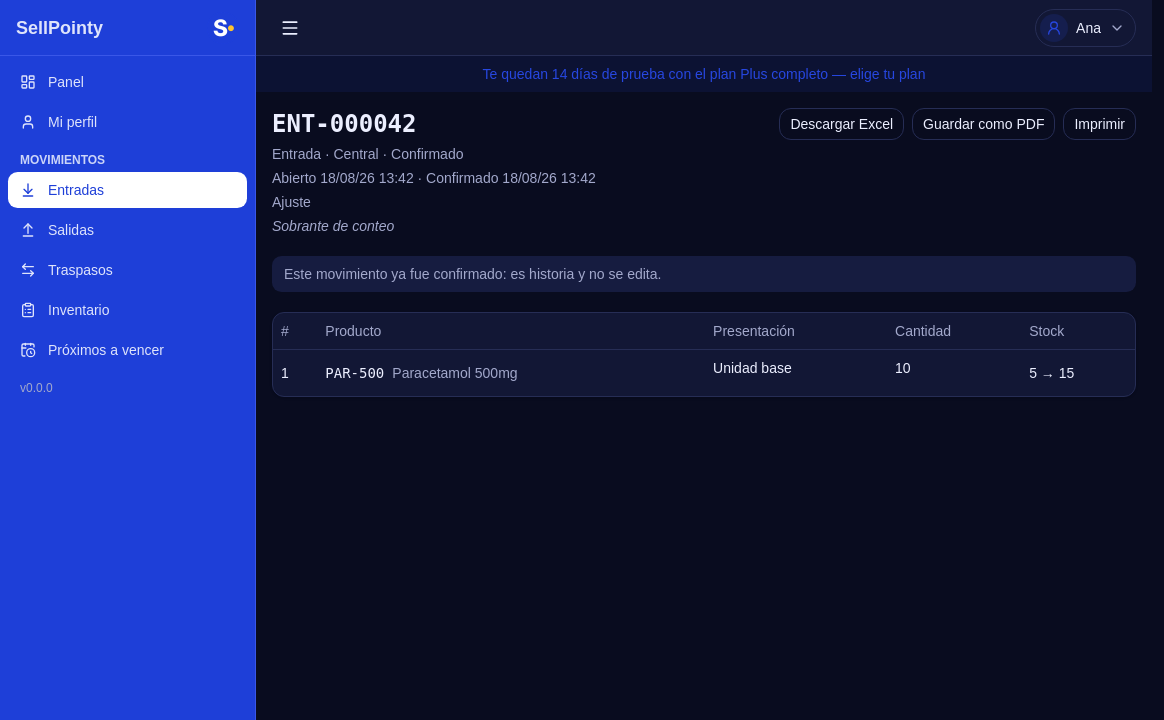
it: Pantalla del documento (F3-DOC-09) › el papel › si guardar el PDF falla, lo dice
Expected: the text "PAR-500" is shown, [325,363,384,383]
Click the button "Guardar como PDF" at (984, 124), box [912,108,1056,140]
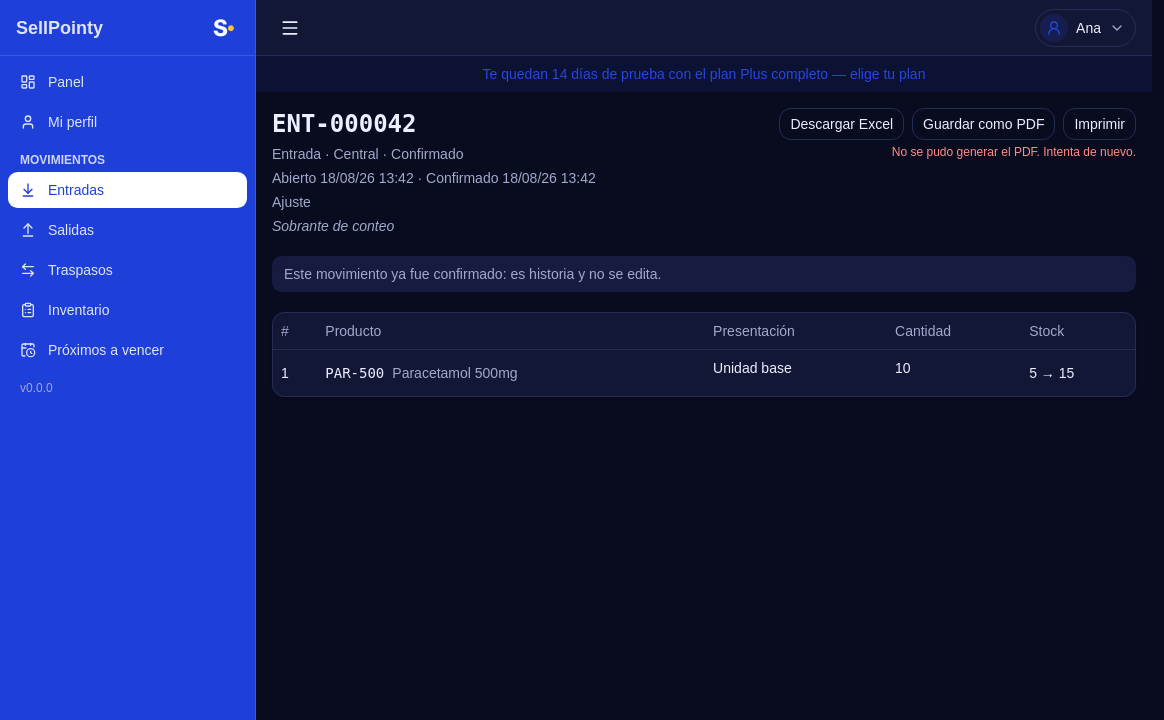
Expected: the text "No se pudo generar el PDF. Intenta de nuevo." is shown, [892,144,1136,160]
